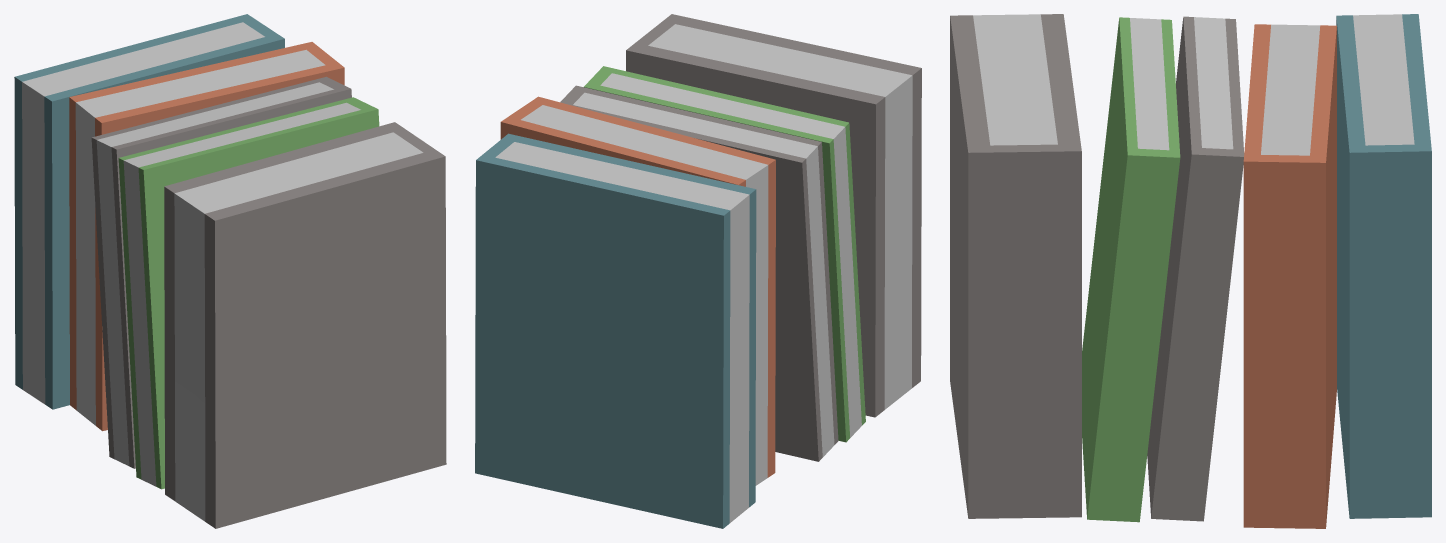
Rendered from SM_Book_03.fbx.
3 views of the same model, side by side, from view 1: azimuth 30°, elevation 25°; view 2: azimuth 150°, elevation 25°; view 3: azimuth 270°, elevation 25° (orthographic). The views are drawn at different scales.
Parts seen in each view (by area): view 1: SM_Book_03; view 2: SM_Book_03; view 3: SM_Book_03.
Part boxes in pixels (x1,y1,x2,y2): SM_Book_03: (14,14,446,528); SM_Book_03: (475,14,921,528); SM_Book_03: (950,14,1431,528).
Bounding box in the file's own units: 39.15 × 45.07 × 53.09.
